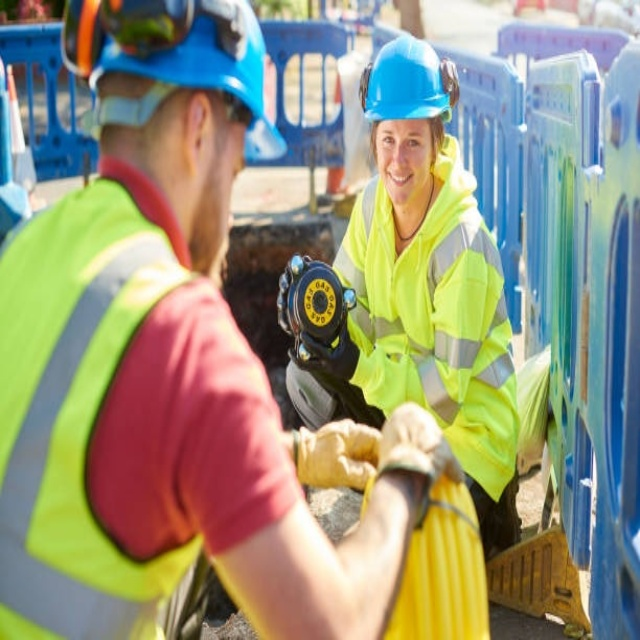Guantes: (376, 398, 463, 525), (293, 405, 373, 499), (285, 320, 359, 378), (274, 246, 310, 329)
Sin_gafas: (215, 124, 249, 201), (380, 125, 428, 158)
Sin_mascara: (385, 166, 417, 201)
